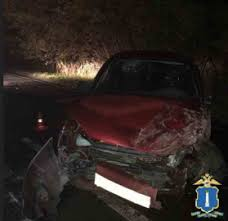car: (56, 42, 218, 202)
